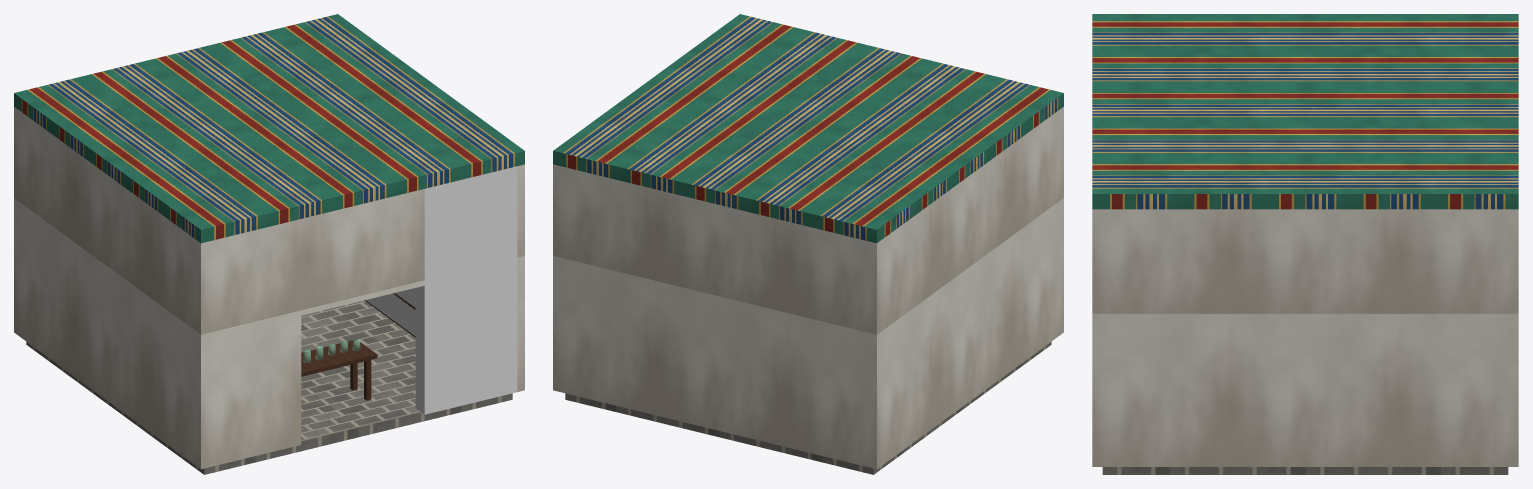
File: alchemy_pavilion.glb
3 views of the same model, side by side, from view 1: azimuth 30°, elevation 25°; view 2: azimuth 150°, elevation 25°; view 3: azimuth 270°, elevation 25° (orthographic). The views are drawn at different scales.
Visible parts, largest first — view 1: Walls, Ceiling, ShellFront-convcolonly.001, Floor, Table, ShelfCol-convcolonly.001; view 2: Walls, Ceiling, Floor; view 3: Walls, Ceiling, Floor.
Part boxes in pixels (bbox=[...]): Walls: bbox=[14, 107, 524, 469]; Ceiling: bbox=[14, 14, 524, 243]; ShellFront-convcolonly.001: bbox=[415, 166, 517, 414]; Floor: bbox=[26, 300, 512, 474]; Table: bbox=[301, 339, 377, 400]; ShelfCol-convcolonly.001: bbox=[366, 288, 415, 336]; Walls: bbox=[553, 107, 1063, 469]; Ceiling: bbox=[553, 14, 1063, 243]; Floor: bbox=[565, 342, 1051, 474]; Walls: bbox=[1092, 209, 1518, 466]; Ceiling: bbox=[1092, 14, 1518, 209]; Floor: bbox=[1102, 467, 1508, 474].
Size of what is drawn, in the model's own units: 6.3 by 4.65 by 6.3.
8 materials, 6 textured.
